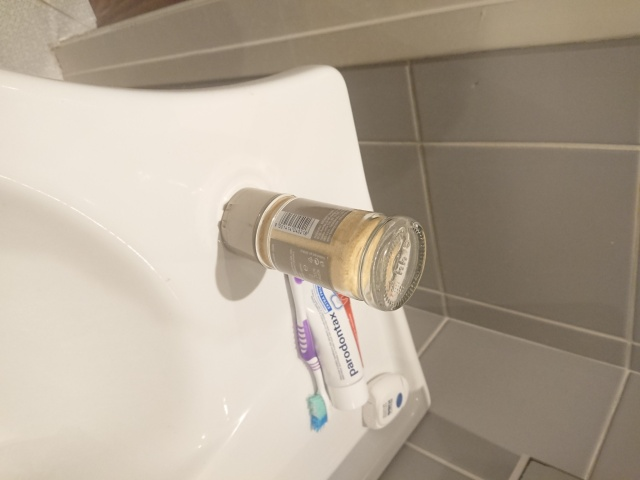Kotanyi Garlic Granules 70g: (217, 183, 428, 315)
